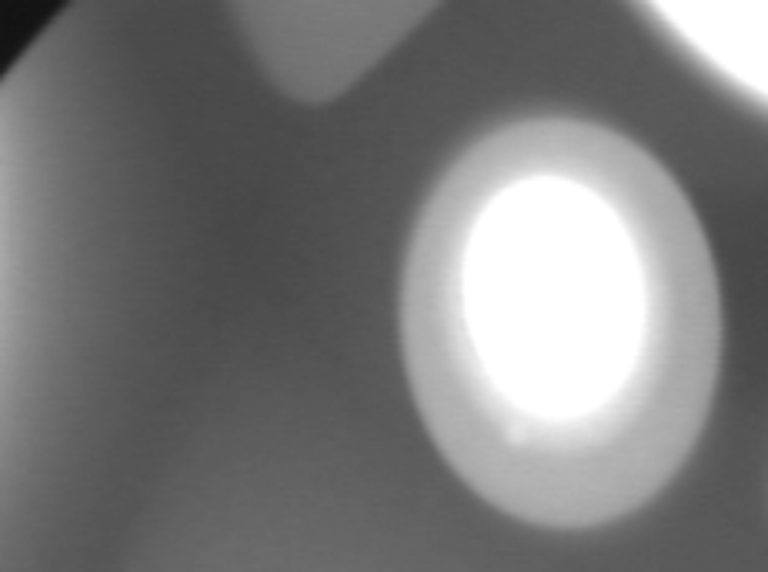defect: (508, 417, 544, 462)
